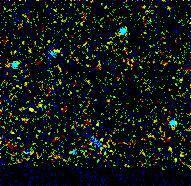star: (16, 93, 46, 123)
